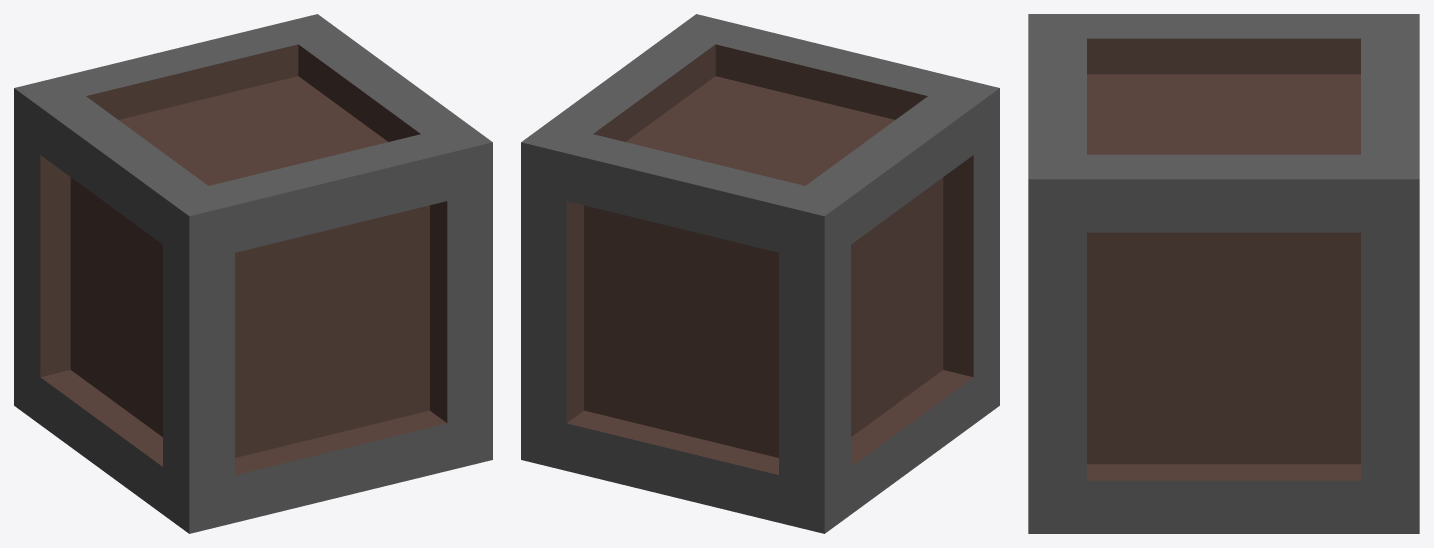
File: CrateSplit.fbx
3 views of the same model, side by side, from view 1: azimuth 30°, elevation 25°; view 2: azimuth 150°, elevation 25°; view 3: azimuth 270°, elevation 25° (orthographic). The views are drawn at different scales.
Parts seen in each view (by area): view 1: CratePiece4, CratePiece2, CratePiece6, CratePiece3, CratePiece7, CratePiece5; view 2: CratePiece5, CratePiece2, CratePiece6, CratePiece3, CratePiece7, CratePiece4; view 3: CratePiece3, CratePiece6, CratePiece5, CratePiece4, CratePiece2, CratePiece7.
Boxes of the visible parts, x1,y1,x2,y2 form: CratePiece4: (169, 128, 492, 533); CratePiece2: (14, 88, 223, 533); CratePiece6: (14, 14, 492, 250); CratePiece3: (284, 14, 492, 431); CratePiece7: (21, 382, 492, 532); CratePiece5: (14, 14, 336, 419); CratePiece5: (521, 128, 844, 533); CratePiece2: (790, 85, 999, 533); CratePiece6: (548, 14, 999, 248); CratePiece3: (521, 14, 730, 468); CratePiece7: (673, 370, 999, 532); CratePiece4: (680, 14, 999, 405); CratePiece3: (1028, 160, 1419, 533); CratePiece6: (1028, 14, 1419, 219); CratePiece5: (1375, 14, 1419, 533); CratePiece4: (1028, 14, 1072, 533); CratePiece2: (1028, 14, 1419, 32); CratePiece7: (1028, 493, 1418, 533).
Size of the model in its own units: 1 by 1 by 1.
Materials: 1 (1 with a texture image).
